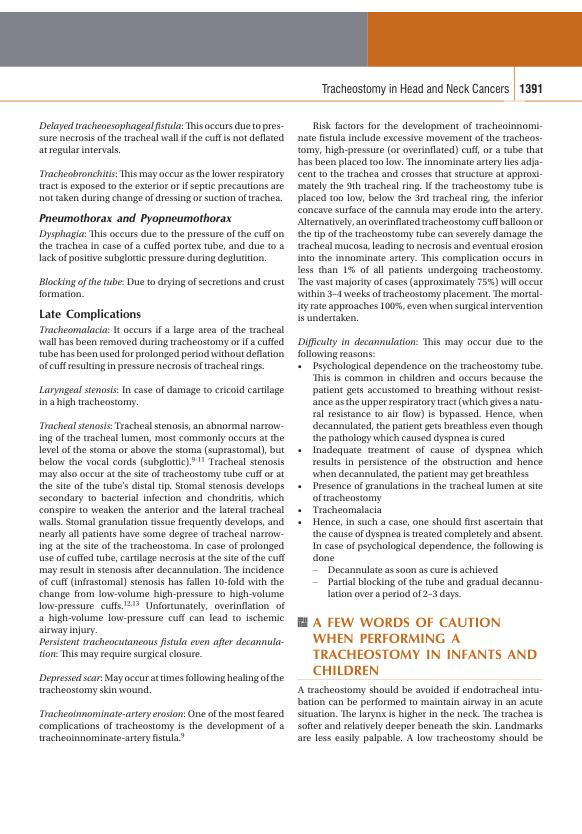header: (320, 82, 511, 96)
section-heading: (310, 613, 540, 678)
sub-section-heading: (38, 212, 233, 226), (38, 307, 142, 321)
text: (296, 120, 545, 601), (38, 324, 285, 745), (37, 119, 286, 204), (37, 228, 285, 299), (297, 684, 544, 745)
